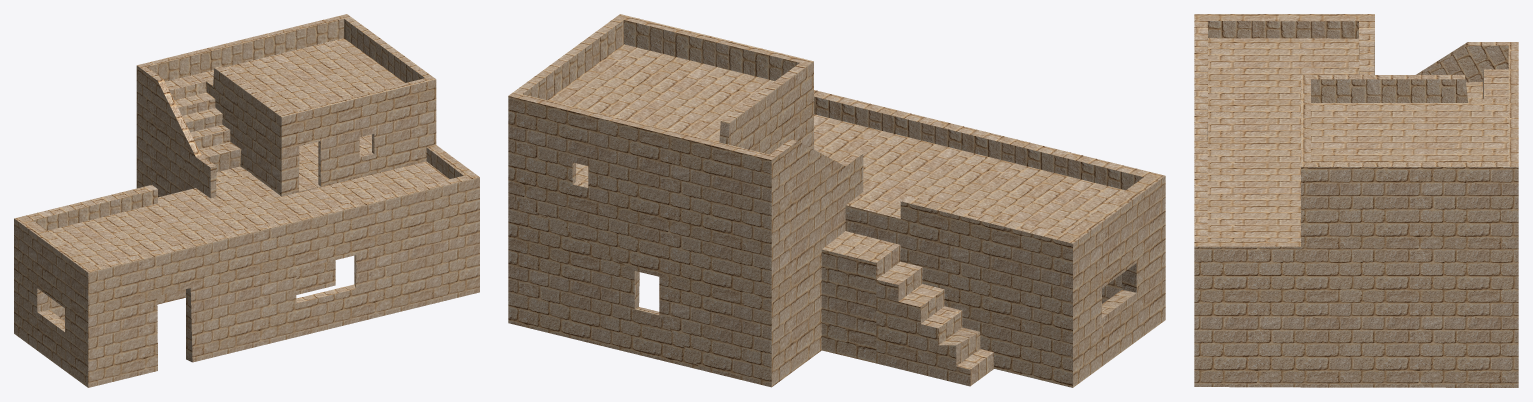
Rendered from desert_building02.obj.
The picture shows the model from 3 angles, left to right: view 1: azimuth 30°, elevation 25°; view 2: azimuth 150°, elevation 25°; view 3: azimuth 270°, elevation 25°; orthographic projection. The views are drawn at different scales.
Parts seen in each view (by area): view 1: Cube; view 2: Cube; view 3: Cube.
Boxes of the visible parts, x1,y1,x2,y2 form: Cube: (14, 14, 479, 387); Cube: (508, 14, 1165, 387); Cube: (1194, 14, 1518, 387).
Size of the model in its own units: 25.46 by 11.26 by 14.98.
1 material, 1 textured.
